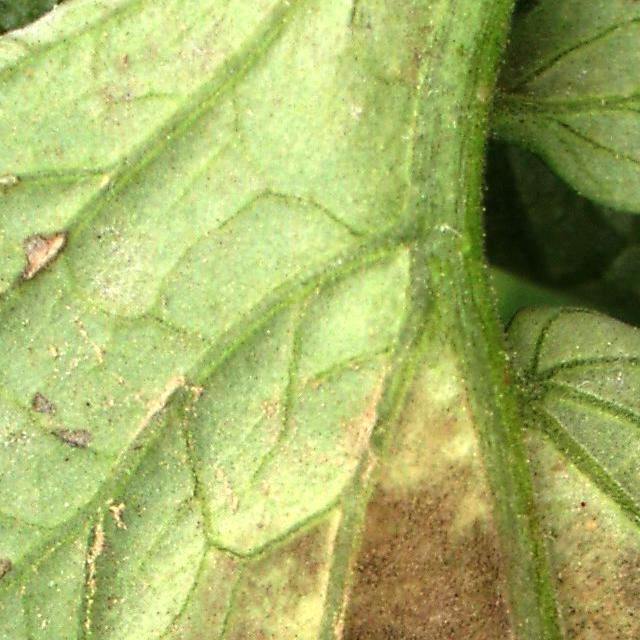Tomato mold leaf: (25, 0, 640, 640), (578, 0, 640, 586)
